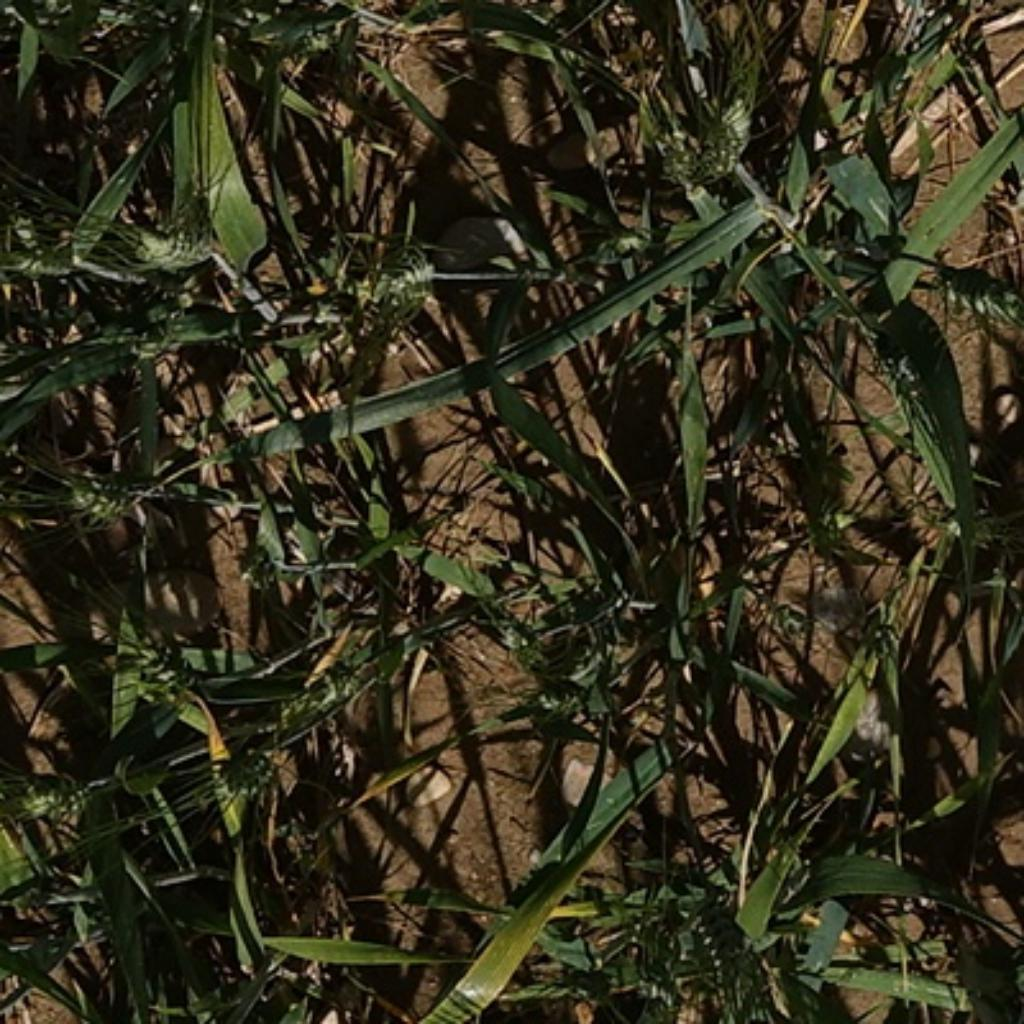0-0: (263, 604, 407, 752), (520, 595, 645, 736), (335, 227, 440, 350), (17, 304, 161, 391), (929, 222, 1024, 350), (35, 440, 151, 524), (678, 888, 750, 1018), (104, 629, 202, 711), (603, 895, 670, 1013), (199, 719, 289, 796), (2, 775, 112, 837), (629, 112, 709, 197), (122, 204, 220, 273), (706, 79, 757, 189), (2, 207, 74, 284), (897, 482, 972, 548)
